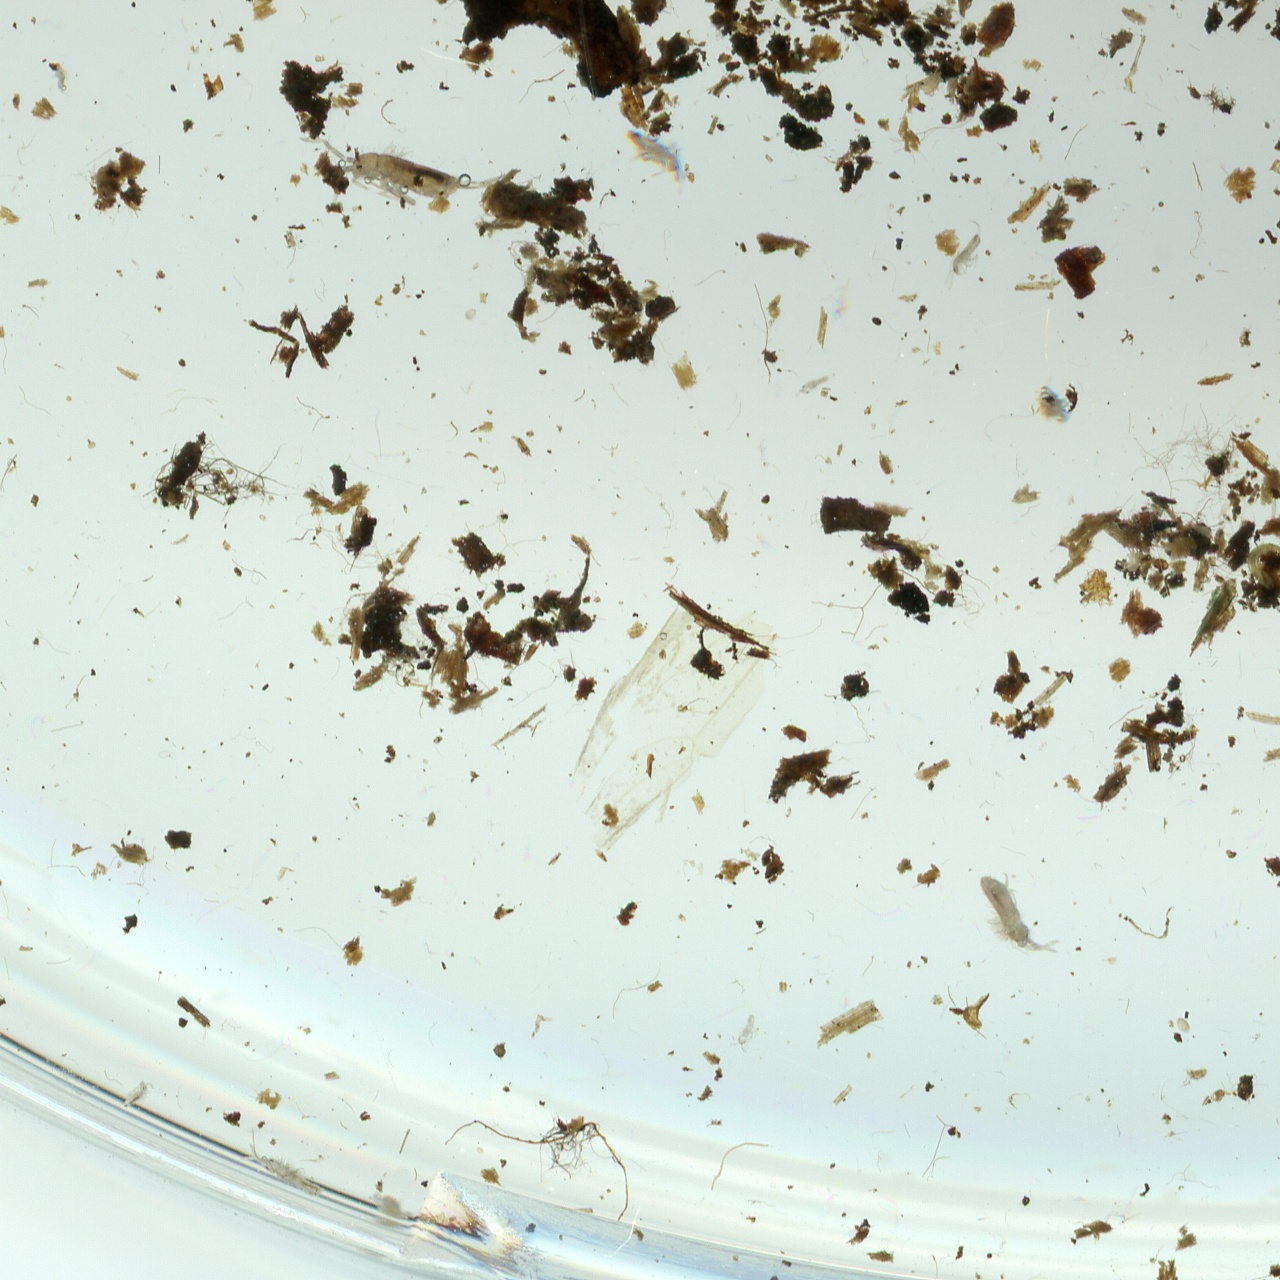arthropod: (299, 136, 510, 213), (966, 858, 1065, 974), (607, 105, 706, 202), (233, 1126, 336, 1204), (926, 213, 1001, 300), (790, 367, 839, 402), (117, 1075, 158, 1115), (730, 1009, 761, 1055), (1265, 492, 1280, 578), (48, 57, 73, 100)
